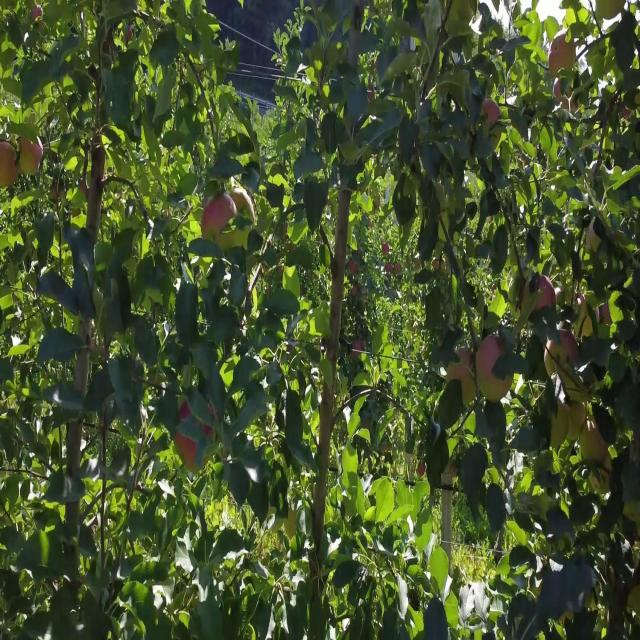apple: (476, 334, 511, 405), (176, 405, 216, 466), (180, 398, 216, 439), (548, 334, 580, 377), (580, 419, 608, 468), (20, 135, 44, 178), (551, 36, 575, 78), (0, 142, 19, 190), (448, 348, 473, 382), (208, 199, 231, 233), (552, 405, 570, 448), (232, 191, 255, 224), (536, 277, 556, 311), (568, 405, 588, 439), (200, 206, 216, 242), (232, 191, 251, 220), (484, 99, 500, 128), (464, 376, 478, 407), (216, 234, 234, 256), (556, 78, 569, 107), (588, 227, 601, 254), (600, 305, 612, 327), (32, 7, 45, 27), (352, 263, 358, 277), (420, 462, 425, 476)
